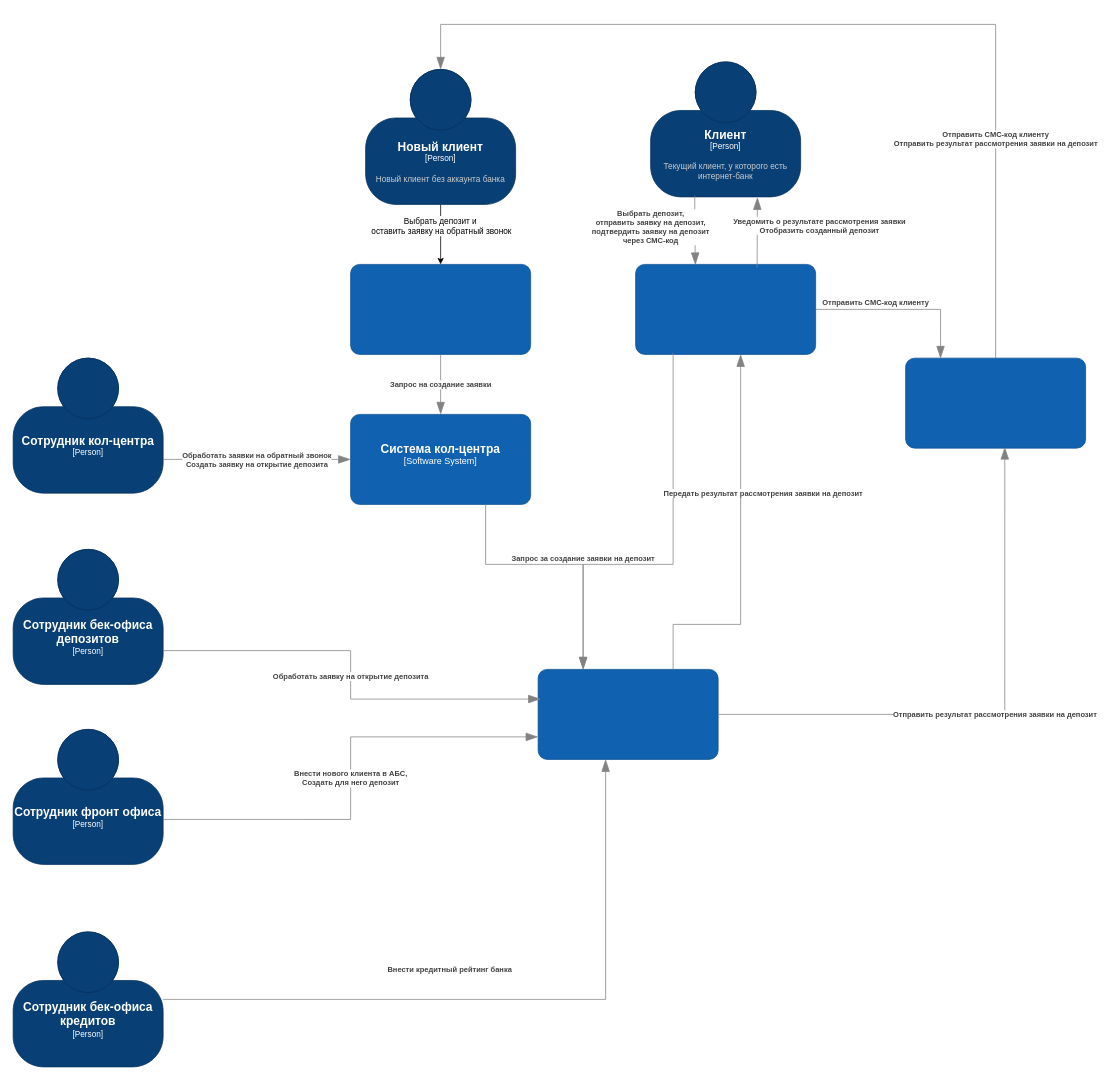
Some shapes in this 1111 by 1080 pixel diagram are drawn without their labels. The box of each missing label's shape, as (x1, y1, x2, y2) in pixels:
АБС [Software System]: (537, 669, 718, 759)
Интернет банк [Software System]: (635, 264, 816, 354)
Сайт [Software System]: (350, 264, 531, 354)
СМС шлюз [Software System]: (905, 357, 1086, 448)
